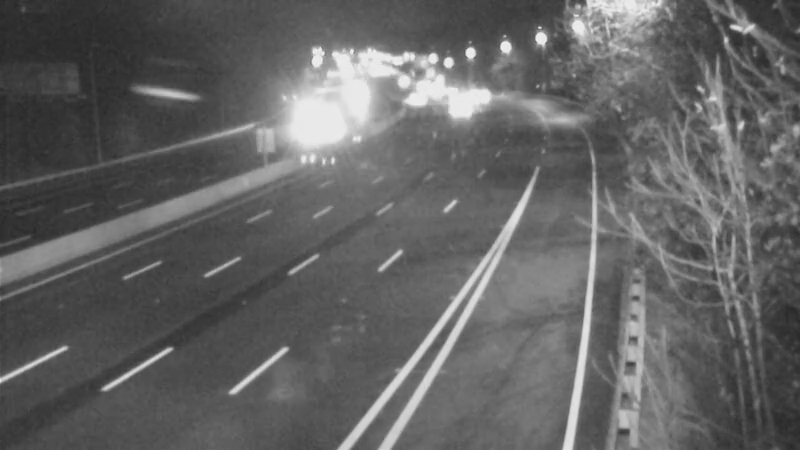vehicle: (391, 73, 441, 123), (432, 81, 482, 131), (283, 99, 333, 149)
